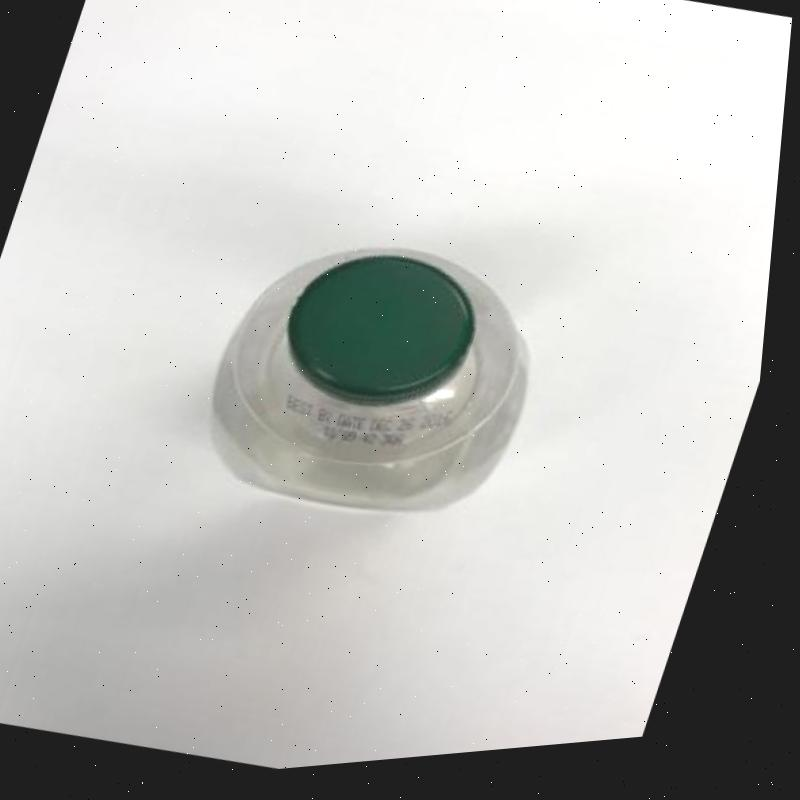botella: (183, 207, 579, 563)
